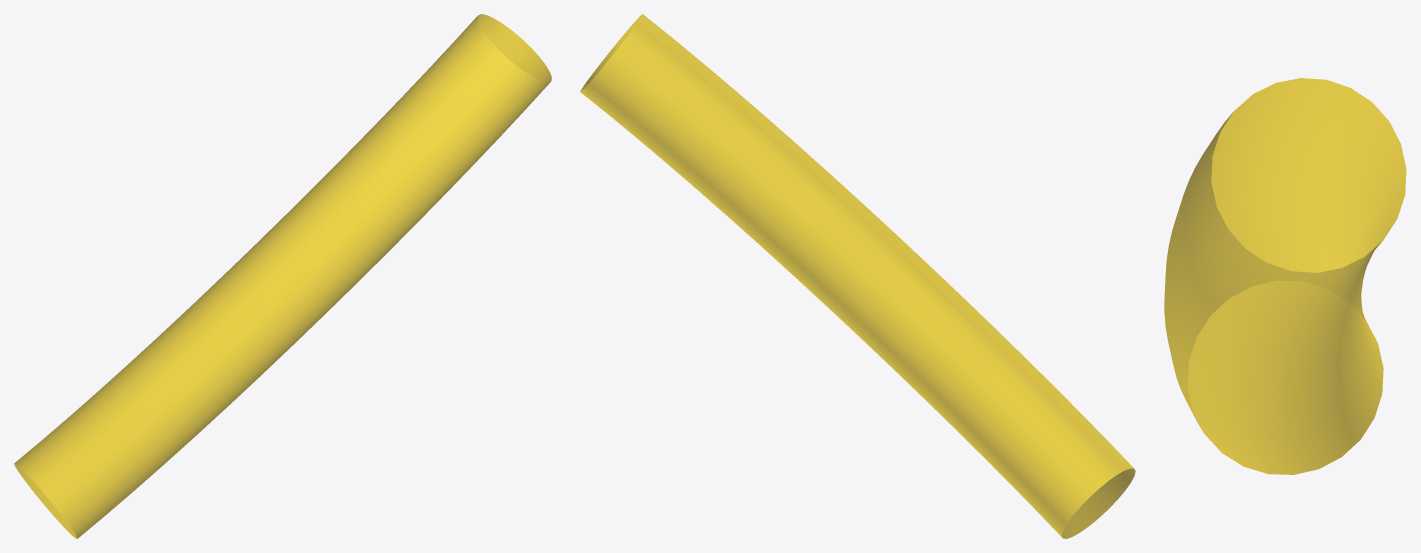
File: Event_27938768_track_50.fbx
3 views of the same model, side by side, from view 1: azimuth 30°, elevation 25°; view 2: azimuth 150°, elevation 25°; view 3: azimuth 270°, elevation 25° (orthographic). The views are drawn at different scales.
Parts seen in each view (by area): view 1: Model; view 2: Model; view 3: Model.
Boxes of the visible parts, x1,y1,x2,y2 form: Model: (14, 14, 551, 538); Model: (580, 14, 1135, 538); Model: (1164, 78, 1406, 474).
Size of the model in its own units: 0.2444 by 0.1821 by 0.049.
